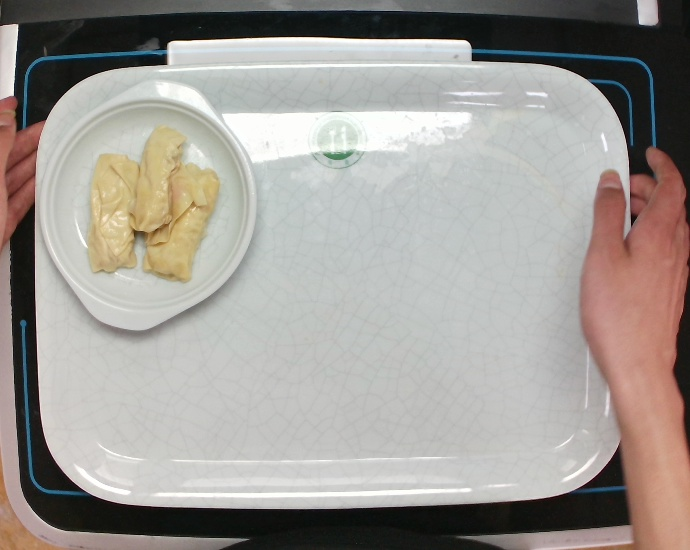JYsf-Shuang_Er_Pan: (38, 80, 257, 334)
